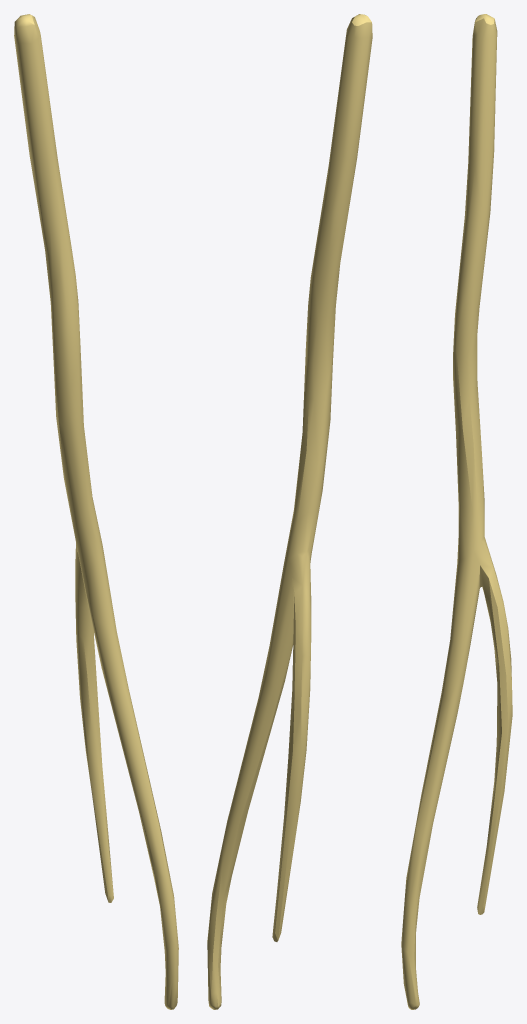
File: fma52592_fj4016.glb
3 views of the same model, side by side, from view 1: azimuth 30°, elevation 25°; view 2: azimuth 210°, elevation 25°; view 3: azimuth 270°, elevation 25° (orthographic). The views are drawn at different scales.
Parts seen in each view (by area): view 1: FMA52592_FJ4016; view 2: FMA52592_FJ4016; view 3: FMA52592_FJ4016.
Part boxes in pixels (x1,y1,x2,y2): FMA52592_FJ4016: (14, 14, 178, 1009); FMA52592_FJ4016: (207, 14, 372, 1009); FMA52592_FJ4016: (401, 14, 512, 1009).
Size of the model in its own units: 0.00306 by 0.0236 by 0.00253.
